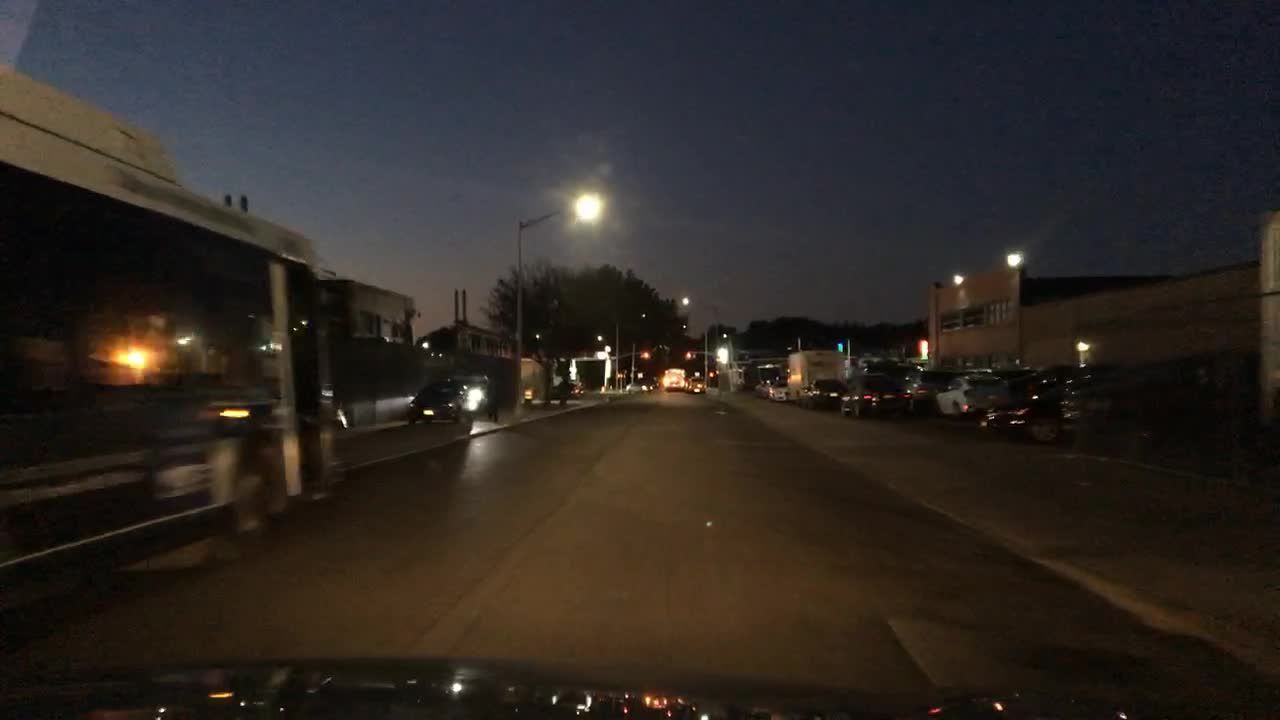bus: (0, 64, 347, 593), (661, 366, 684, 391)
car: (978, 350, 1256, 445), (933, 364, 1073, 422), (405, 373, 494, 422), (837, 371, 911, 417), (898, 364, 958, 411), (796, 377, 846, 409), (862, 357, 921, 380), (967, 364, 1035, 378), (548, 378, 583, 398), (771, 374, 788, 401), (682, 376, 707, 394), (753, 379, 771, 398), (640, 378, 659, 391)
person: (482, 373, 499, 420)
truck: (786, 348, 846, 409)
